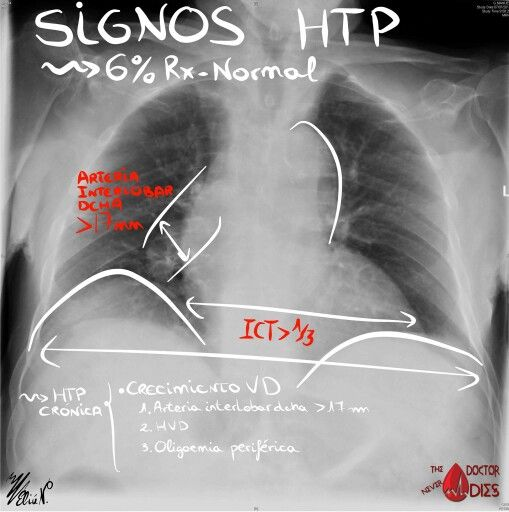telestration: (39, 333, 481, 390), (23, 2, 403, 52), (28, 266, 209, 348), (139, 401, 373, 461), (296, 330, 484, 393), (38, 50, 328, 87), (188, 292, 421, 330), (288, 118, 341, 250), (140, 163, 206, 246), (74, 169, 173, 210), (167, 215, 223, 280), (126, 375, 291, 396), (96, 379, 127, 472), (241, 315, 319, 350), (73, 213, 144, 235), (159, 217, 188, 264), (36, 404, 105, 419), (48, 386, 89, 402), (16, 389, 51, 404)
